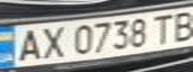0: (66, 21, 93, 56)
3: (109, 17, 133, 52)
7: (90, 19, 115, 54)
8: (127, 15, 154, 47)
A: (9, 26, 45, 63)
B: (166, 8, 193, 43)
T: (148, 11, 178, 45)
X: (36, 24, 69, 60)
